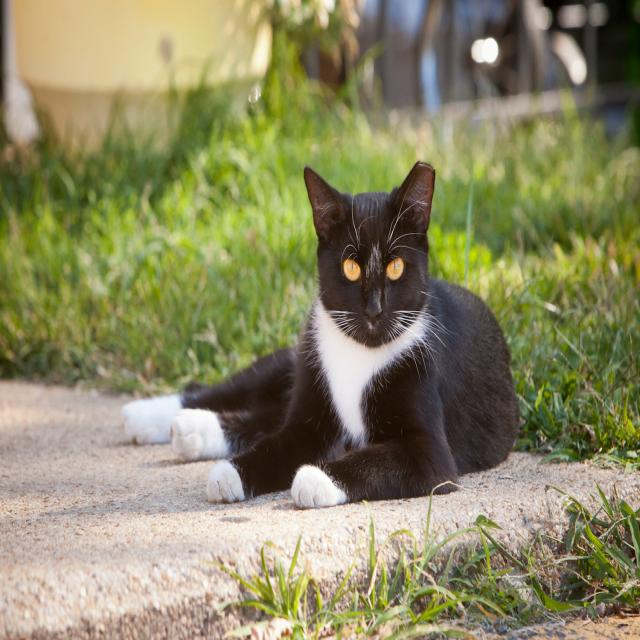cat: (122, 161, 519, 508)
